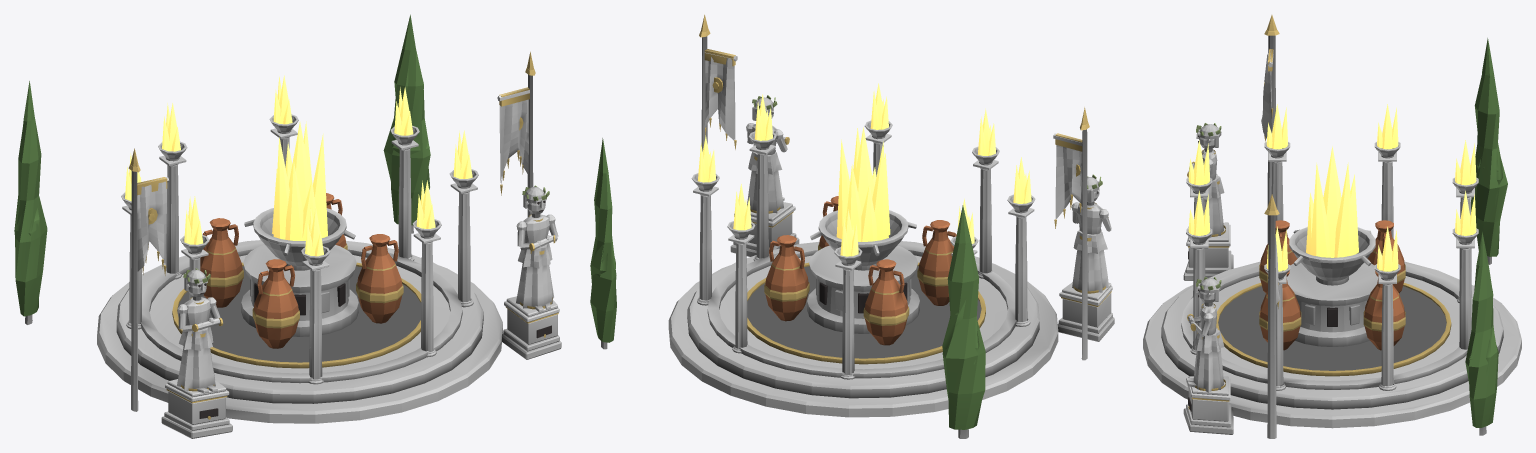
File: sacred-fire-l2.glb
3 renders of one model, left to right at view 1: azimuth 30°, elevation 25°; view 2: azimuth 150°, elevation 25°; view 3: azimuth 270°, elevation 25°, orthographic. The views are drawn at different scales.
Parts seen in each view (by area): view 1: sacred-fire-l2; view 2: sacred-fire-l2; view 3: sacred-fire-l2.
Part boxes in pixels (<box>): sacred-fire-l2: <box>14,14,561,438</box>; sacred-fire-l2: <box>590,14,1114,438</box>; sacred-fire-l2: <box>1143,15,1521,438</box>.
Bounding box in the file's own units: 1.48 × 0.9045 × 1.27.
